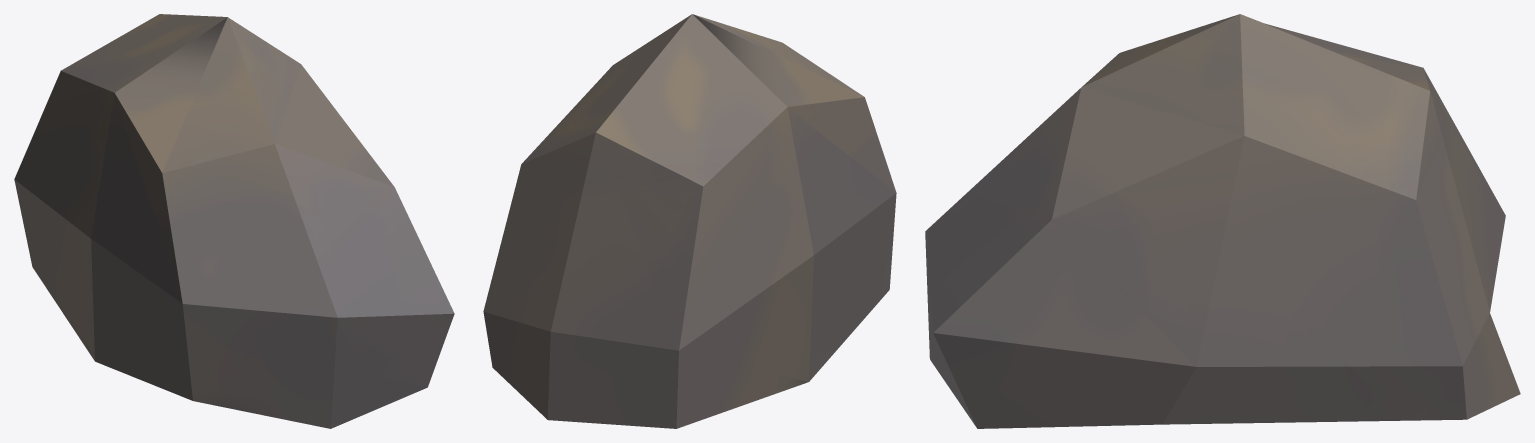
The model's file is Rock1.obj.
3 renders of one model, left to right at view 1: azimuth 30°, elevation 25°; view 2: azimuth 150°, elevation 25°; view 3: azimuth 270°, elevation 25°, orthographic. The views are drawn at different scales.
Parts seen in each view (by area): view 1: Rock_1_Cube; view 2: Rock_1_Cube; view 3: Rock_1_Cube.
Boxes of the visible parts, left/top/right/bottom form: Rock_1_Cube: left=14, top=14, right=454, bottom=428; Rock_1_Cube: left=483, top=14, right=896, bottom=428; Rock_1_Cube: left=925, top=14, right=1520, bottom=428.
Bounding box in the file's own units: 1.39 × 1.63 × 2.33.
